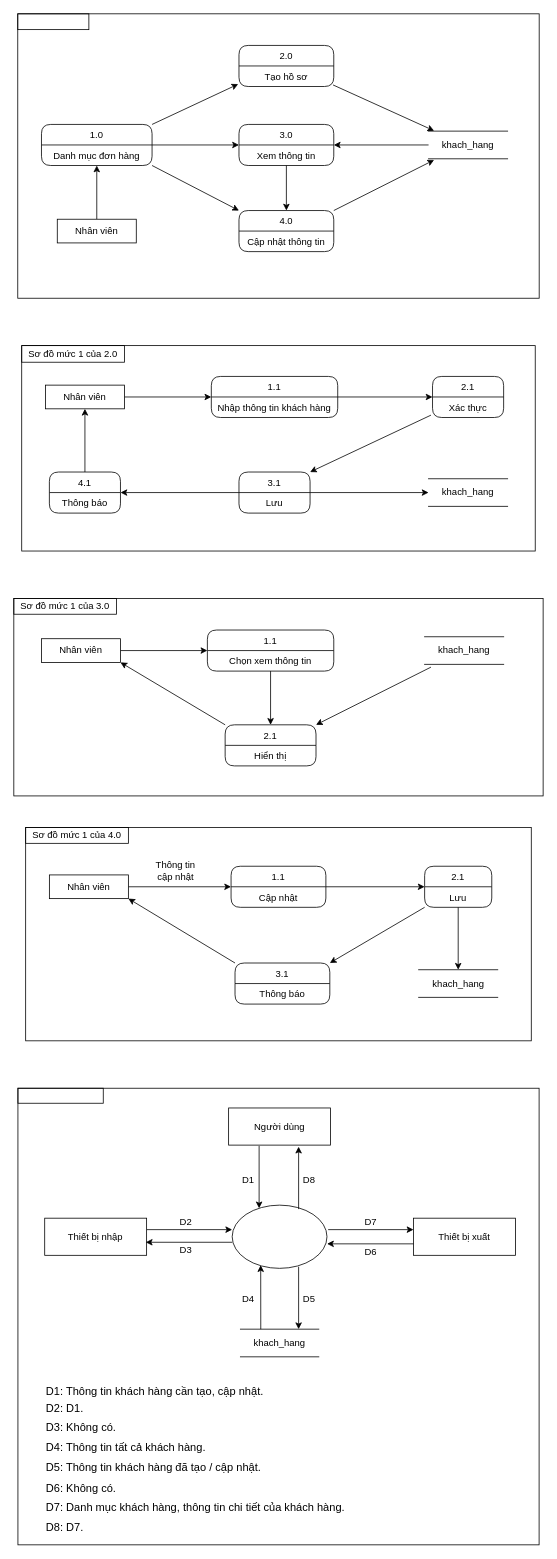
Some shapes in this 557 by 1559 pixel diagram are drawn without their labels. The centre of each missing label's shape, as x and y in pixels:
"Quản lí khách hàng" belongs at point 279,1236.
"Sơ đồ mức 0" belongs at point 53,21.
"Sơ đồ tổng quát" belongs at point 60,1095.
